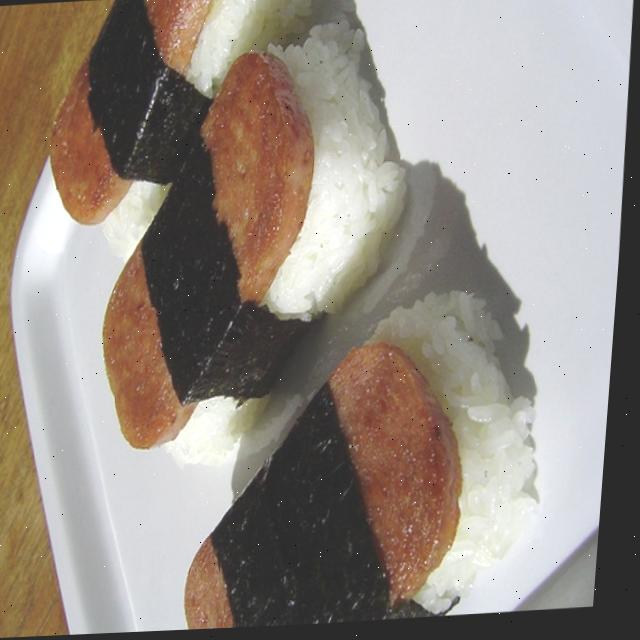寿司卷物: (20, 0, 511, 617)
